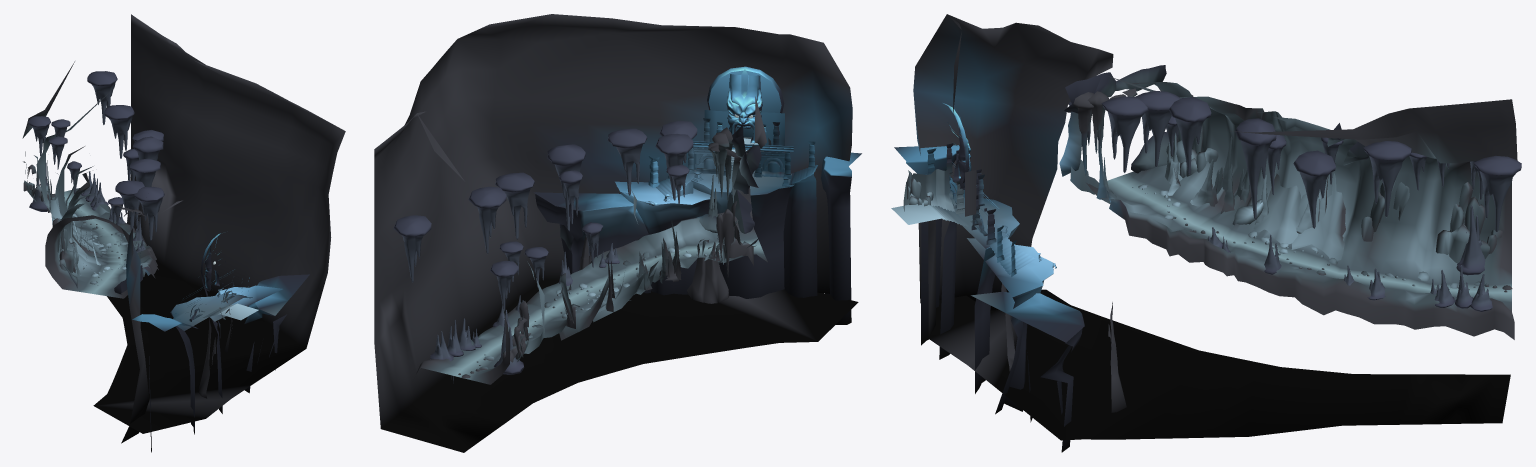
File: Arctic_Tunnels_Curve_Right_45_A.glb
The picture shows the model from 3 angles, left to right: view 1: azimuth 30°, elevation 25°; view 2: azimuth 150°, elevation 25°; view 3: azimuth 270°, elevation 25°; orthographic projection. The views are drawn at different scales.
Parts seen in each view (by area): view 1: Arctic_Tunnels_Curve_Right_45_A_Reflection, Arctic_Tunnels_Curve_Right_45_A, Arctic_Tunnels_Icicle_Shadow_A02 (9), Arctic_Tunnels_Icicle_Shadow_A02 (18), Arctic_Tunnels_Icicle_Shadow_A02 (19), Arctic_Tunnels_Icicle_Shadow_A02 (10), Arctic_Tunnels_Icicle_Shadow_A02 (11), Arctic_Tunnels_Icicle_Shadow_A02 (7), Arctic_Tunnels_Icicle_Shadow_A02 (13); view 2: Arctic_Tunnels_Curve_Right_45_A_Reflection, Arctic_Tunnels_Curve_Right_45_A, Arctic_Tunnels_Icicle_Shadow_A02 (11), Arctic_Tunnels_Icicle_Shadow_A02 (8), Arctic_Tunnels_Icicle_Shadow_A02 (9), Arctic_Tunnels_Icicle_Shadow_A02 (19), Arctic_Tunnels_Icicle_Shadow_A02 (7), Arctic_Tunnels_Icicle_Shadow_A02 (10), Arctic_Tunnels_Icicle_Shadow_A02 (13), Arctic_Tunnels_Icicle_Shadow_A02 (3), Arctic_Tunnels_Icicle_Shadow_A02 (18), Arctic_Tunnels_Icicle_Shadow_A07; view 3: Arctic_Tunnels_Curve_Right_45_A_Reflection, Arctic_Tunnels_Curve_Right_45_A, Arctic_Tunnels_Icicle_Shadow_A02 (7), Arctic_Tunnels_Icicle_Shadow_A02 (19), Arctic_Tunnels_Icicle_Shadow_A02 (9), Arctic_Tunnels_Icicle_Shadow_A02 (18), Arctic_Tunnels_Icicle_Shadow_A02 (8), Arctic_Tunnels_Icicle_Shadow_A02 (11), Arctic_Tunnels_Icicle_Shadow_A02 (10), Arctic_Tunnels_Icicle_Shadow_A07.
Boxes of the visible parts, x1=… form: Arctic_Tunnels_Curve_Right_45_A_Reflection: x1=22, y1=14, x2=345, y2=443; Arctic_Tunnels_Curve_Right_45_A: x1=62, y1=233, x2=309, y2=452; Arctic_Tunnels_Icicle_Shadow_A02 (9): x1=104, y1=105, x2=134, y2=158; Arctic_Tunnels_Icicle_Shadow_A02 (18): x1=134, y1=187, x2=164, y2=240; Arctic_Tunnels_Icicle_Shadow_A02 (19): x1=87, y1=71, x2=117, y2=124; Arctic_Tunnels_Icicle_Shadow_A02 (10): x1=115, y1=180, x2=144, y2=231; Arctic_Tunnels_Icicle_Shadow_A02 (11): x1=129, y1=158, x2=160, y2=186; Arctic_Tunnels_Icicle_Shadow_A02 (7): x1=133, y1=136, x2=163, y2=186; Arctic_Tunnels_Icicle_Shadow_A02 (13): x1=28, y1=116, x2=50, y2=156; Arctic_Tunnels_Curve_Right_45_A_Reflection: x1=374, y1=14, x2=858, y2=452; Arctic_Tunnels_Curve_Right_45_A: x1=533, y1=66, x2=861, y2=324; Arctic_Tunnels_Icicle_Shadow_A02 (11): x1=607, y1=128, x2=647, y2=195; Arctic_Tunnels_Icicle_Shadow_A02 (8): x1=495, y1=172, x2=534, y2=239; Arctic_Tunnels_Icicle_Shadow_A02 (9): x1=468, y1=186, x2=506, y2=253; Arctic_Tunnels_Icicle_Shadow_A02 (19): x1=393, y1=215, x2=431, y2=282; Arctic_Tunnels_Icicle_Shadow_A02 (7): x1=547, y1=144, x2=585, y2=231; Arctic_Tunnels_Icicle_Shadow_A02 (10): x1=655, y1=134, x2=693, y2=200; Arctic_Tunnels_Icicle_Shadow_A02 (13): x1=490, y1=260, x2=518, y2=311; Arctic_Tunnels_Icicle_Shadow_A02 (3): x1=559, y1=170, x2=582, y2=224; Arctic_Tunnels_Icicle_Shadow_A02 (18): x1=659, y1=120, x2=697, y2=163; Arctic_Tunnels_Icicle_Shadow_A07: x1=494, y1=311, x2=524, y2=374; Arctic_Tunnels_Curve_Right_45_A_Reflection: x1=903, y1=14, x2=1517, y2=440; Arctic_Tunnels_Curve_Right_45_A: x1=891, y1=65, x2=1368, y2=452; Arctic_Tunnels_Icicle_Shadow_A02 (7): x1=1235, y1=118, x2=1276, y2=220; Arctic_Tunnels_Icicle_Shadow_A02 (19): x1=1474, y1=156, x2=1521, y2=232; Arctic_Tunnels_Icicle_Shadow_A02 (9): x1=1363, y1=141, x2=1411, y2=217; Arctic_Tunnels_Icicle_Shadow_A02 (18): x1=1101, y1=96, x2=1148, y2=172; Arctic_Tunnels_Icicle_Shadow_A02 (8): x1=1293, y1=150, x2=1335, y2=228; Arctic_Tunnels_Icicle_Shadow_A02 (11): x1=1169, y1=97, x2=1211, y2=174; Arctic_Tunnels_Icicle_Shadow_A02 (10): x1=1135, y1=91, x2=1180, y2=167; Arctic_Tunnels_Icicle_Shadow_A07: x1=1456, y1=205, x2=1485, y2=275.
Size of the model in its own units: 28.26 by 24.12 by 39.22.
